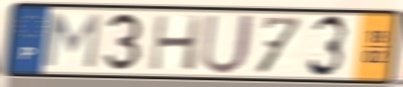3: (304, 14, 357, 80), (99, 10, 147, 75)
7: (255, 14, 303, 76)
H: (147, 13, 205, 72)
M: (40, 12, 104, 71)
U: (198, 13, 258, 77)
